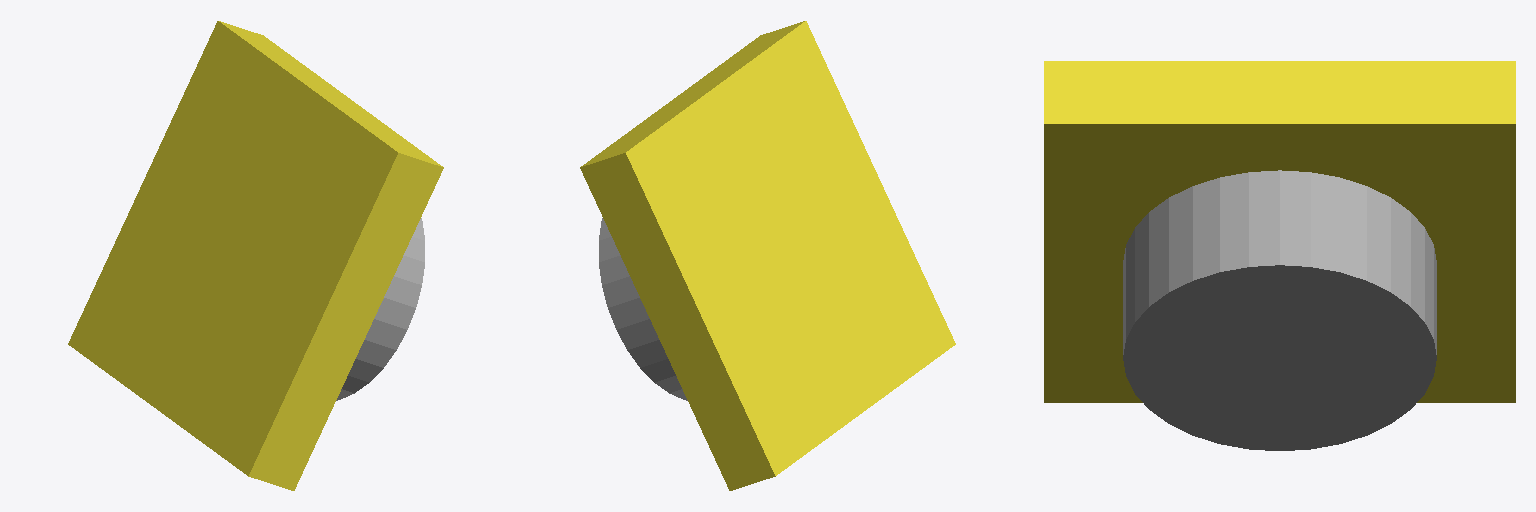
The robot description file, URDF, robot "uirover":
<?xml version="1.0" ?>
<!-- =================================================================================== -->
<!-- |    This document was autogenerated by xacro from [local-path]/Robotics/Rover/src/uirover_description/urdf/uirover_sim.urdf.xacro | -->
<!-- |    EDITING THIS FILE BY HAND IS NOT RECOMMENDED                                 | -->
<!-- =================================================================================== -->
<robot name="uirover">
  <!-- <gazebo>
        <plugin filename="gz_ros2_control-system" name="gz_ros2_control::GazeboSimROS2ControlPlugin">
            <parameters>$(find ros2_control_demo_example_9)/config/rrbot_controllers.yaml</parameters>
        </plugin>
    </gazebo> -->
  <!-- should probably change the color at some point. or not. orange is cool -->
  <gazebo reference="br_wheel">
    <material>Gazebo/Orange</material>
  </gazebo>
  <gazebo reference="bl_wheel">
    <material>Gazebo/Orange</material>
  </gazebo>
  <gazebo reference="mr_wheel">
    <material>Gazebo/Orange</material>
  </gazebo>
  <gazebo reference="ml_wheel">
    <material>Gazebo/Orange</material>
  </gazebo>
  <gazebo reference="fr_wheel">
    <material>Gazebo/Orange</material>
  </gazebo>
  <gazebo reference="fl_wheel">
    <material>Gazebo/Orange</material>
  </gazebo>
  <gazebo reference="chassis">
    <material>Gazebo/Orange</material>
  </gazebo>
  <gazebo reference="arm_platform">
    <material>Gazebo/Orange</material>
  </gazebo>
  <!-- BASE LINK -->
  <link name="base_link"/>
  <!-- CHASSIS -->
  <link name="chassis">
    <visual>
      <origin rpy="1.5707963267948966 0.0 0.0" xyz="0.0 0.203 0.0"/>
      <geometry>
        <mesh filename="file://[local-path]/Robotics/Rover/build/uirover_description/ament_cmake_index/share/uirover_description/dae/chassis.dae"/>
      </geometry>
    </visual>
  </link>
  <joint name="chassis_joint" type="fixed">
    <parent link="base_link"/>
    <child link="chassis"/>
    <origin rpy="0 0 0" xyz="0 0 0"/>
  </joint>
  <!--L SUSPENSIONS-->
  <link name="l_suspension">
    <visual>
      <origin rpy="1.5707963267948966 0.0 3.141592653589793" xyz="0.085 0.02 -0.06"/>
      <geometry>
        <mesh filename="file://[local-path]/Robotics/Rover/build/uirover_description/ament_cmake_index/share/uirover_description/dae/suspension.dae"/>
      </geometry>
    </visual>
  </link>
  <joint name="l_suspension_joint" type="fixed">
    <parent link="chassis"/>
    <child link="l_suspension"/>
    <origin rpy="0 0 0" xyz="0.35 0.28 0.1"/>
  </joint>
  <!--R SUSPENSIONS-->
  <link name="r_suspension">
    <visual>
      <origin rpy="1.5707963267948966 0.0 3.141592653589793" xyz="0.085 0.02 -0.06"/>
      <geometry>
        <mesh filename="file://[local-path]/Robotics/Rover/build/uirover_description/ament_cmake_index/share/uirover_description/dae/suspension.dae"/>
      </geometry>
    </visual>
  </link>
  <joint name="r_suspension_joint" type="fixed">
    <parent link="chassis"/>
    <child link="r_suspension"/>
    <origin rpy="0 0 0" xyz="0.35 -0.28 0.1"/>
  </joint>
  <link name="fl_wheel">
    <visual>
      <origin rpy="0 1.5707963267948966 0" xyz="0 0 -0.08"/>
      <geometry>
        <mesh filename="file://[local-path]/Robotics/Rover/build/uirover_description/ament_cmake_index/share/uirover_description/dae/wheel.dae"/>
      </geometry>
    </visual>
    <collision>
      <geometry>
        <cylinder length="0.1" radius="0.114"/>
      </geometry>
    </collision>
    <inertial>
      <mass value="0.5"/>
      <inertia ixx="0.002041166666666667" ixy="0.0" ixz="0.0" iyy="0.002041166666666667" iyz="0.0" izz="0.003249"/>
    </inertial>
  </link>
  <joint name="fl_wheel_joint" type="continuous">
    <parent link="l_suspension"/>
    <child link="fl_wheel"/>
    <origin rpy="-1.5707963267948966 0 0" xyz="0.436 0.1 -0.342"/>
    <axis xyz="0 0 1"/>
  </joint>
  <link name="fr_wheel">
    <visual>
      <origin rpy="0 -1.5707963267948966 0" xyz="0 0 0.08"/>
      <geometry>
        <mesh filename="file://[local-path]/Robotics/Rover/build/uirover_description/ament_cmake_index/share/uirover_description/dae/wheel.dae"/>
      </geometry>
    </visual>
    <collision>
      <geometry>
        <cylinder length="0.1" radius="0.114"/>
      </geometry>
    </collision>
    <inertial>
      <mass value="0.5"/>
      <inertia ixx="0.002041166666666667" ixy="0.0" ixz="0.0" iyy="0.002041166666666667" iyz="0.0" izz="0.003249"/>
    </inertial>
  </link>
  <joint name="fr_wheel_joint" type="continuous">
    <parent link="r_suspension"/>
    <child link="fr_wheel"/>
    <origin rpy="-1.5707963267948966 0 0" xyz="0.436 -0.1 -0.342"/>
    <axis xyz="0 0 1"/>
  </joint>
  <link name="ml_wheel">
    <visual>
      <origin rpy="0 1.5707963267948966 0" xyz="0 0 -0.08"/>
      <geometry>
        <mesh filename="file://[local-path]/Robotics/Rover/build/uirover_description/ament_cmake_index/share/uirover_description/dae/wheel.dae"/>
      </geometry>
    </visual>
    <collision>
      <geometry>
        <cylinder length="0.1" radius="0.114"/>
      </geometry>
    </collision>
    <inertial>
      <mass value="0.5"/>
      <inertia ixx="0.002041166666666667" ixy="0.0" ixz="0.0" iyy="0.002041166666666667" iyz="0.0" izz="0.003249"/>
    </inertial>
  </link>
  <joint name="ml_wheel_joint" type="continuous">
    <parent link="l_suspension"/>
    <child link="ml_wheel"/>
    <origin rpy="-1.5707963267948966 0 0" xyz="0.016 0.1 -0.342"/>
    <axis xyz="0 0 1"/>
  </joint>
  <link name="mr_wheel">
    <visual>
      <origin rpy="0 -1.5707963267948966 0" xyz="0 0 0.08"/>
      <geometry>
        <mesh filename="file://[local-path]/Robotics/Rover/build/uirover_description/ament_cmake_index/share/uirover_description/dae/wheel.dae"/>
      </geometry>
    </visual>
    <collision>
      <geometry>
        <cylinder length="0.1" radius="0.114"/>
      </geometry>
    </collision>
    <inertial>
      <mass value="0.5"/>
      <inertia ixx="0.002041166666666667" ixy="0.0" ixz="0.0" iyy="0.002041166666666667" iyz="0.0" izz="0.003249"/>
    </inertial>
  </link>
  <joint name="mr_wheel_joint" type="continuous">
    <parent link="r_suspension"/>
    <child link="mr_wheel"/>
    <origin rpy="-1.5707963267948966 0 0" xyz="0.016 -0.1 -0.342"/>
    <axis xyz="0 0 1"/>
  </joint>
  <link name="bl_wheel">
    <visual>
      <origin rpy="0 1.5707963267948966 0" xyz="0 0 -0.08"/>
      <geometry>
        <mesh filename="file://[local-path]/Robotics/Rover/build/uirover_description/ament_cmake_index/share/uirover_description/dae/wheel.dae"/>
      </geometry>
    </visual>
    <collision>
      <geometry>
        <cylinder length="0.1" radius="0.114"/>
      </geometry>
    </collision>
    <inertial>
      <mass value="0.5"/>
      <inertia ixx="0.002041166666666667" ixy="0.0" ixz="0.0" iyy="0.002041166666666667" iyz="0.0" izz="0.003249"/>
    </inertial>
  </link>
  <joint name="bl_wheel_joint" type="continuous">
    <parent link="l_suspension"/>
    <child link="bl_wheel"/>
    <origin rpy="-1.5707963267948966 0 0" xyz="-0.434 0.1 -0.342"/>
    <axis xyz="0 0 1"/>
  </joint>
  <link name="br_wheel">
    <visual>
      <origin rpy="0 -1.5707963267948966 0" xyz="0 0 0.08"/>
      <geometry>
        <mesh filename="file://[local-path]/Robotics/Rover/build/uirover_description/ament_cmake_index/share/uirover_description/dae/wheel.dae"/>
      </geometry>
    </visual>
    <collision>
      <geometry>
        <cylinder length="0.1" radius="0.114"/>
      </geometry>
    </collision>
    <inertial>
      <mass value="0.5"/>
      <inertia ixx="0.002041166666666667" ixy="0.0" ixz="0.0" iyy="0.002041166666666667" iyz="0.0" izz="0.003249"/>
    </inertial>
  </link>
  <joint name="br_wheel_joint" type="continuous">
    <parent link="r_suspension"/>
    <child link="br_wheel"/>
    <origin rpy="-1.5707963267948966 0 0" xyz="-0.434 -0.1 -0.342"/>
    <axis xyz="0 0 1"/>
  </joint>
  <!-- Robot Footprint -->
  <!-- This is needed for nav libraries. Its the 2D top-down profile of the robot. Makes for simpler collision detection. -->
  <link name="base_footprint"/>
  <joint name="base_footprint_joint" type="fixed">
    <parent link="base_link"/>
    <child link="base_footprint"/>
    <origin rpy="0 0 0" xyz="0.0 0.0 -0.44999999999999996"/>
  </joint>
  <!-- placeholder for ros2 control -->
  <!-- https://github.com/ros-controls/ros2_control_demos/blob/master/example_9/ -->
  <!-- https://control.ros.org/rolling/doc/getting_started/getting_started.html -->
  <!-- https://control.ros.org/rolling/doc/gz_ros2_control/doc/index.html -->
  <ros2_control name="uirover_control" type="system">
    <hardware>
      <plugin>gz_ros2_control/GazeboSimSystem</plugin>
      <!-- <xacro:unless value="${use_gazebo}">
                    <plugin>uirover_hardware/RRBotSystemPositionOnlyHardware</plugin>
                    <param name="example_param_hw_start_duration_sec">0</param>
                    <param name="example_param_hw_stop_duration_sec">3.0</param>
                    <param name="example_param_hw_slowdown">100</param>
                </xacro:unless> -->
    </hardware>
  </ros2_control>
  <!-- =============================== -->
  <!--            SENSORS              -->
  <!-- =============================== -->
  <link name="demo_camera">
    <visual>
      <origin rpy="0.0 1.5707963267948966 0.0" xyz="0.0 0.0 0.0"/>
      <geometry>
        <cylinder length="0.01" radius="0.01"/>
      </geometry>
      <material name="Grey">
        <color rgba="0.7 0.7 0.7 1.0"/>
      </material>
    </visual>
    <visual>
      <origin rpy="0.0 0.0 0.0" xyz="-0.005 0.0 0.0"/>
      <geometry>
        <box size="0.005 0.03 0.03"/>
      </geometry>
    </visual>
    <collision>
      <geometry>
        <cylinder length="0.01" radius="0.01"/>
      </geometry>
    </collision>
    <inertial>
      <mass value="0.1"/>
      <inertia ixx="3.333333333333333e-06" ixy="0.0" ixz="0.0" iyy="3.333333333333333e-06" iyz="0.0" izz="5e-06"/>
    </inertial>
  </link>
  <gazebo reference="demo_camera">
    <sensor name="boundingbox_camera" type="boundingbox_camera">
      <topic>demo_camera</topic>
      <camera>
        <box_type>2d</box_type>
        <!-- 110 deg FOV -->
        <horizontal_fov>1.9198</horizontal_fov>
        <image>
          <width>800</width>
          <height>600</height>
        </image>
        <clip>
          <near>0.1</near>
          <far>10</far>
        </clip>
      </camera>
      <always_on>1</always_on>
      <update_rate>30</update_rate>
      <visualize>true</visualize>
    </sensor>
  </gazebo>
  <joint name="front_camera_joint" type="fixed">
    <origin rpy="0.0 0.5 0.0" xyz="0.0 0.2 0.8"/>
    <parent link="base_link"/>
    <child link="demo_camera"/>
  </joint>
</robot>

--- What the picture shows (computed from the rendered views, not written in the file) ---
Views: 3 orthographic renders of the robot side by side, from view 1: azimuth 30°, elevation 25°; view 2: azimuth 150°, elevation 25°; view 3: azimuth 270°, elevation 25°.
Robot: uirover — 12 links, 11 joints (6 continuous, 5 fixed); root link base_link; default pose: every joint at zero.
Links seen in each view (by area): view 1: demo_camera; view 2: demo_camera; view 3: demo_camera.
Link boxes in pixels (<box>): demo_camera: <box>68,21,443,490</box>; demo_camera: <box>580,21,955,490</box>; demo_camera: <box>1044,61,1515,450</box>.
Size in the robot's own frame: 0.023 by 0.03 by 0.0287 metres.
Geometry: only primitive shapes (box / cylinder / sphere) drawn; not drawn: 9 mesh visuals (reference in a form the renderer does not follow).